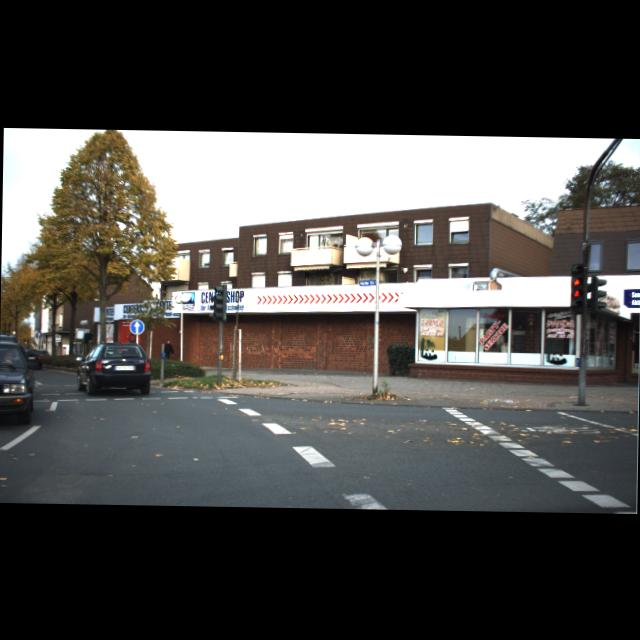mandatory: (130, 318, 144, 334)
